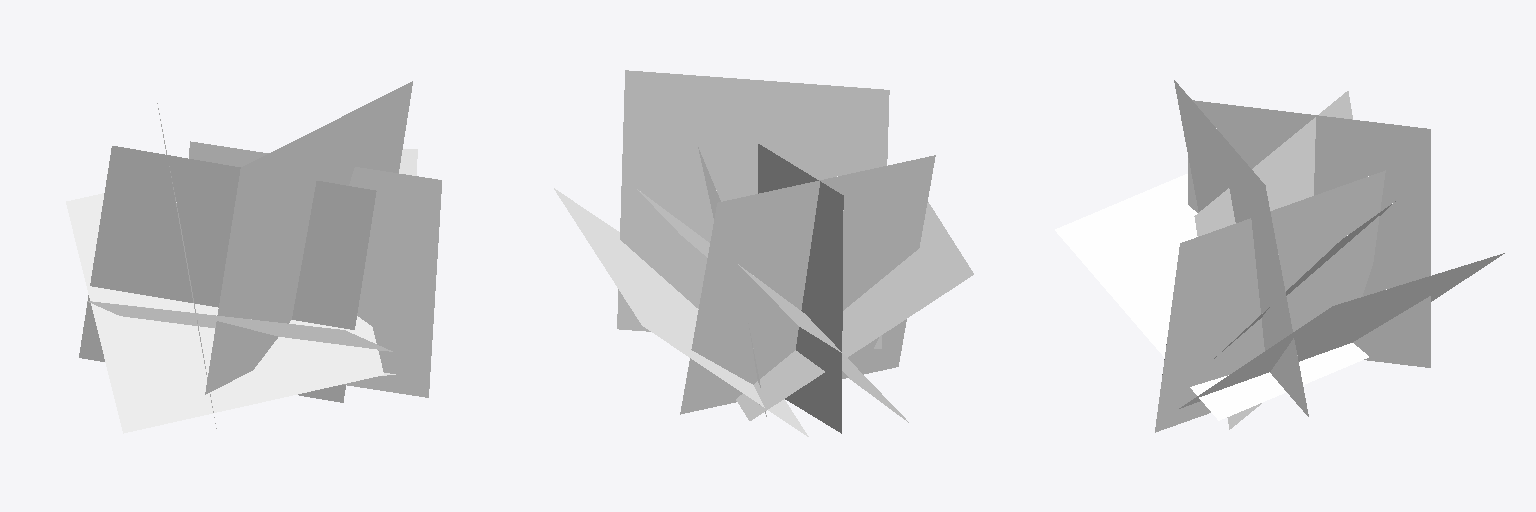
File: leaf_tips.obj
3 renders of one model, left to right at view 1: azimuth 30°, elevation 25°; view 2: azimuth 150°, elevation 25°; view 3: azimuth 270°, elevation 25°, orthographic.
Visible parts, largest first — view 1: cube.005, cube.000, cube.003, cube.001, cube.002; view 2: cube.000, cube.006, cube.002, cube.005, cube.004, cube.003; view 3: cube.001, cube.006, cube.002, cube.000, cube.004, cube.005, cube.003.
Boxes of the visible parts, <box> form: cube.005: <box>79,146,376,402</box>; cube.000: <box>205,81,412,394</box>; cube.003: <box>66,193,383,433</box>; cube.001: <box>189,141,441,397</box>; cube.002: <box>87,301,392,351</box>; cube.000: <box>617,70,889,348</box>; cube.006: <box>680,155,935,414</box>; cube.002: <box>736,202,973,420</box>; cube.005: <box>758,144,843,433</box>; cube.004: <box>554,188,808,436</box>; cube.003: <box>637,189,908,422</box>; cube.001: <box>1155,170,1385,432</box>; cube.006: <box>1188,100,1430,367</box>; cube.002: <box>1055,174,1368,420</box>; cube.000: <box>1174,80,1308,416</box>; cube.004: <box>1179,253,1504,408</box>; cube.005: <box>1194,91,1352,429</box>; cube.003: <box>1214,201,1395,358</box>.
Bounding box in the file's own units: 3.24 × 2.36 × 3.36.